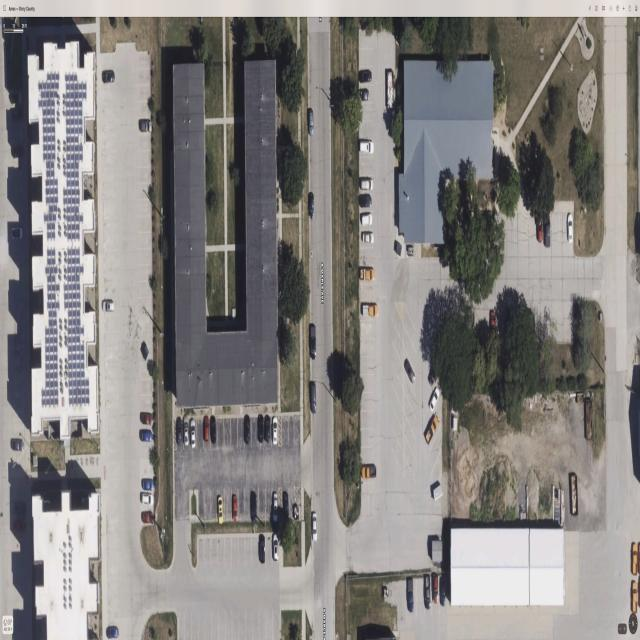Empty: (265, 488, 273, 521), (237, 418, 245, 449), (258, 489, 265, 521), (238, 489, 245, 521), (251, 417, 258, 448), (281, 416, 288, 447), (197, 419, 204, 449), (231, 418, 238, 448), (217, 418, 224, 447), (224, 418, 231, 447), (288, 415, 294, 448), (245, 489, 251, 521), (294, 415, 300, 446)
Parked: (182, 416, 190, 451), (258, 534, 266, 569), (257, 415, 265, 448), (251, 489, 259, 522), (189, 418, 197, 450), (272, 533, 279, 569), (264, 416, 272, 447), (271, 416, 279, 447), (217, 491, 225, 522), (272, 488, 279, 522), (176, 417, 183, 450), (203, 417, 210, 449), (210, 416, 217, 448), (244, 416, 251, 448), (231, 489, 238, 521)
